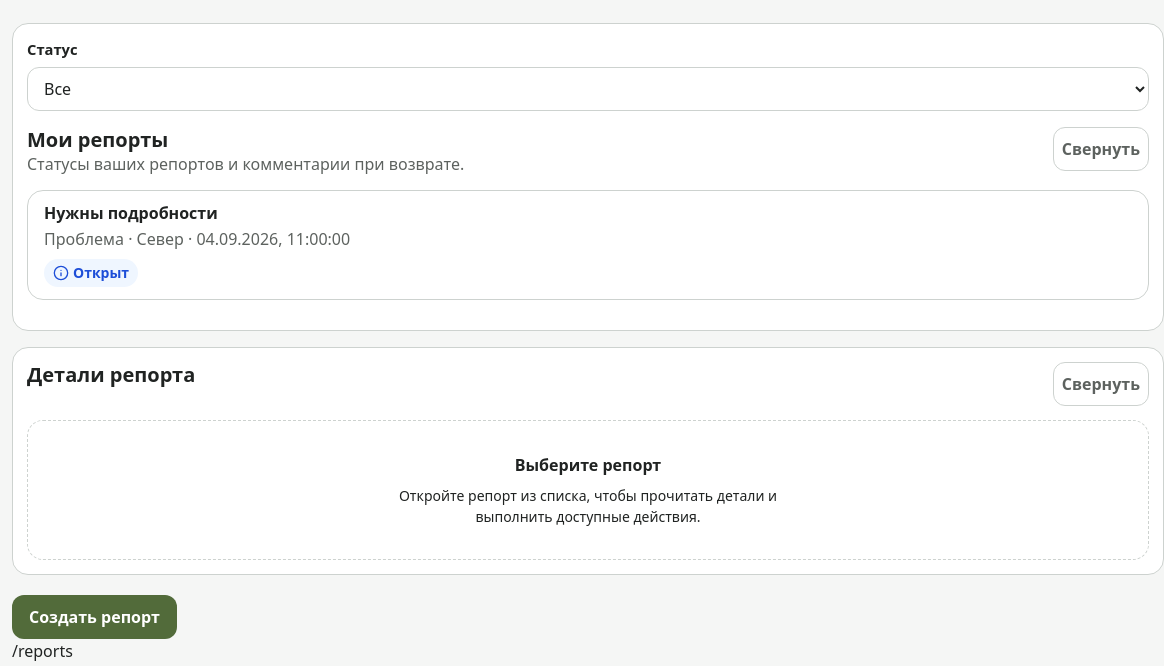
Test: keeps mobile report filters and summaries visible while deferring detail history
The width and height of the screenshot is (1164, 666).
Expected: the dropdown named "Статус репортов" is shown, x1=27 y1=67 x2=1149 y2=111
Expected: the text "photo.jpg" is not shown
Click the button "Нужны подробности": click(588, 245) x1=27 y1=190 x2=1149 y2=300
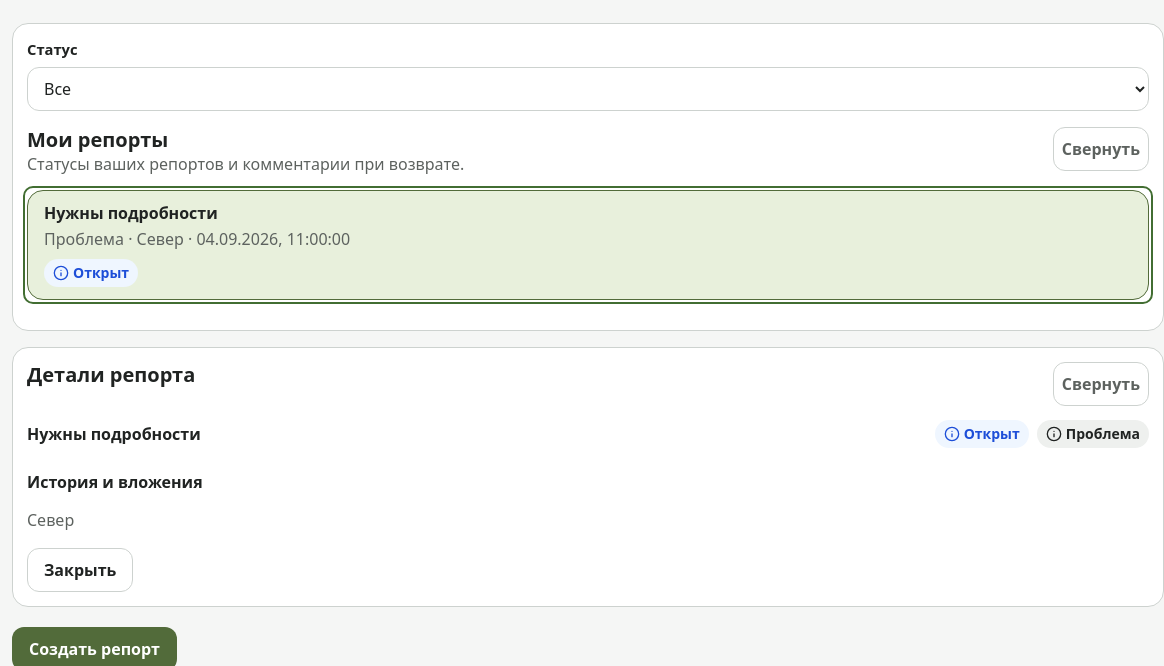
Expected: the text "photo.jpg" is not shown
Result: the heading "Нужны подробности" is shown at x1=27 y1=423 x2=201 y2=445
Click the button "История и вложения": click(115, 482) x1=27 y1=460 x2=1149 y2=504
(page scrolled)
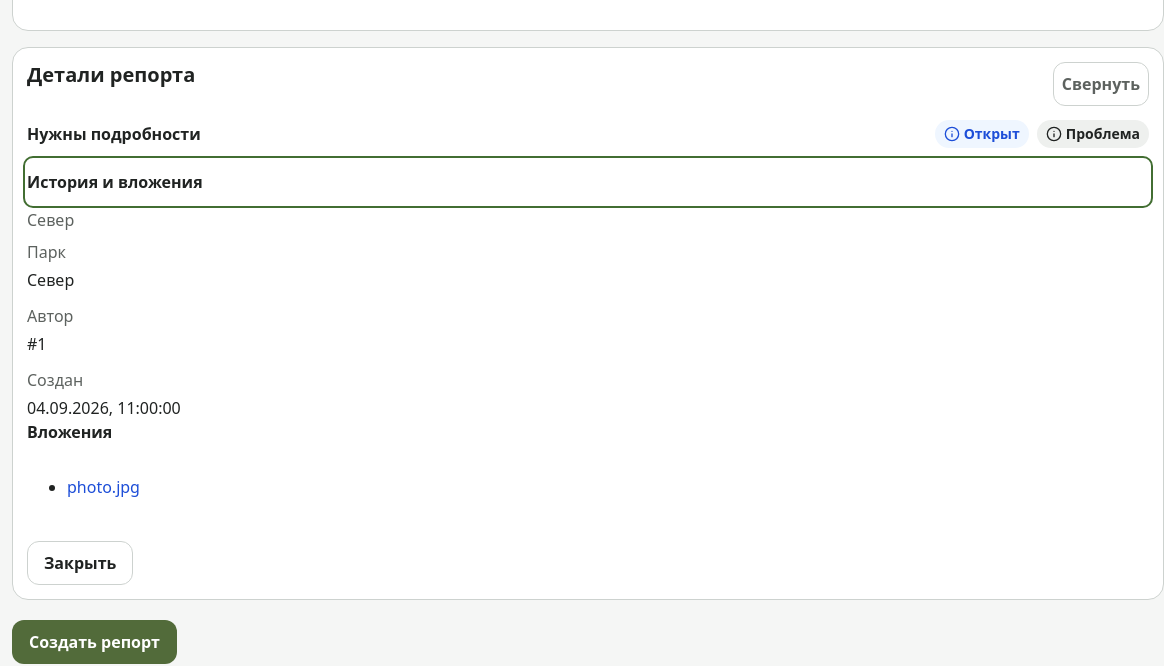
Result: the link "photo.jpg" is shown at x1=67 y1=476 x2=140 y2=498
